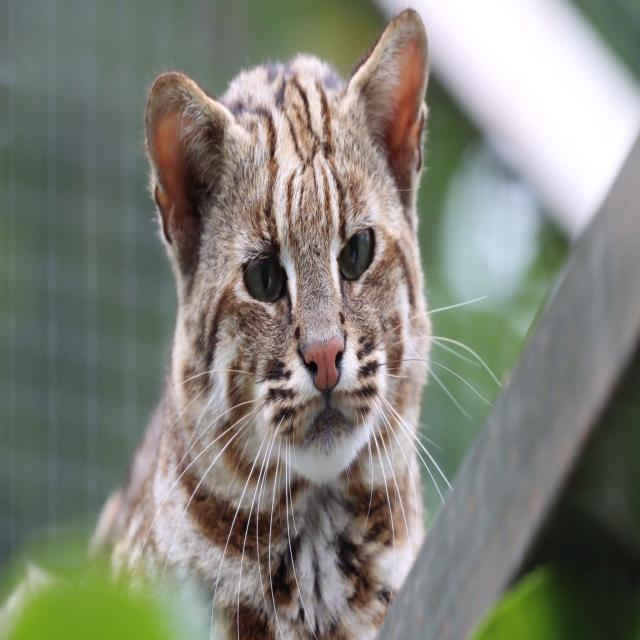leopard: (120, 34, 526, 612)
